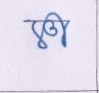i_matra: (49, 12, 69, 47)
